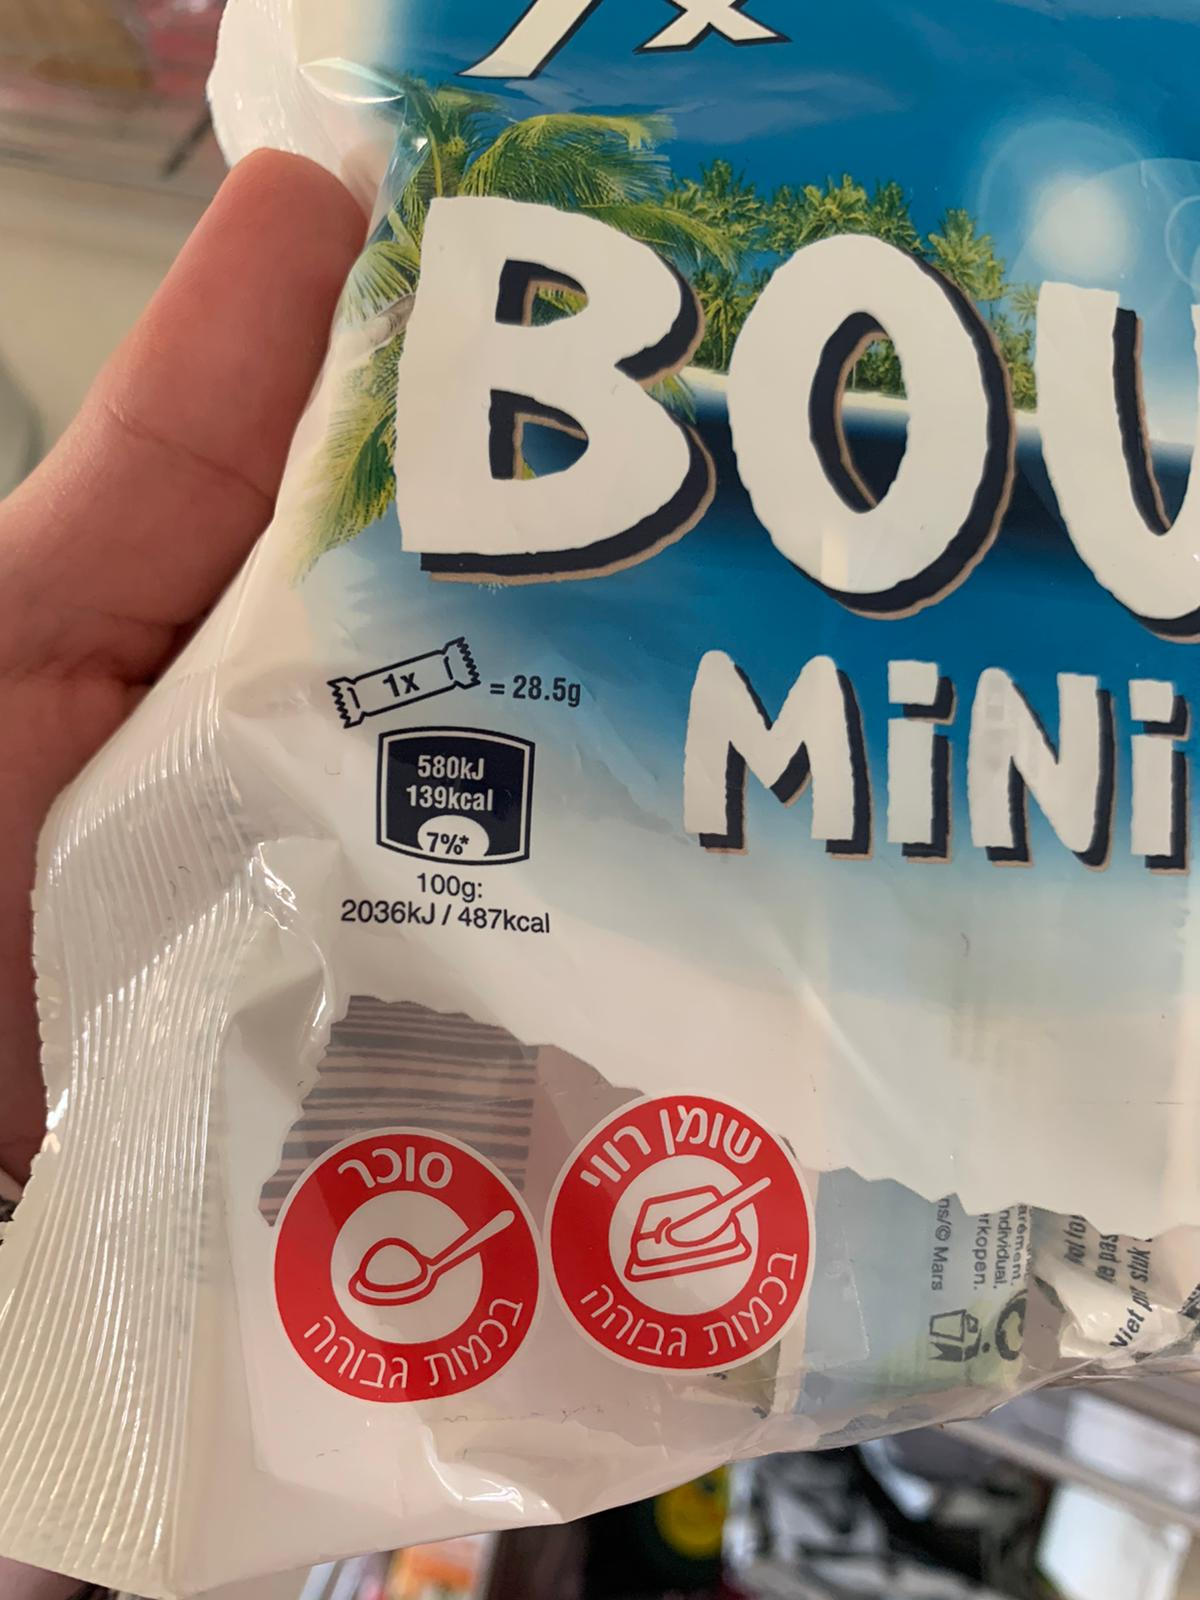fat: (545, 1086, 817, 1371)
sugar: (271, 1128, 550, 1409)
